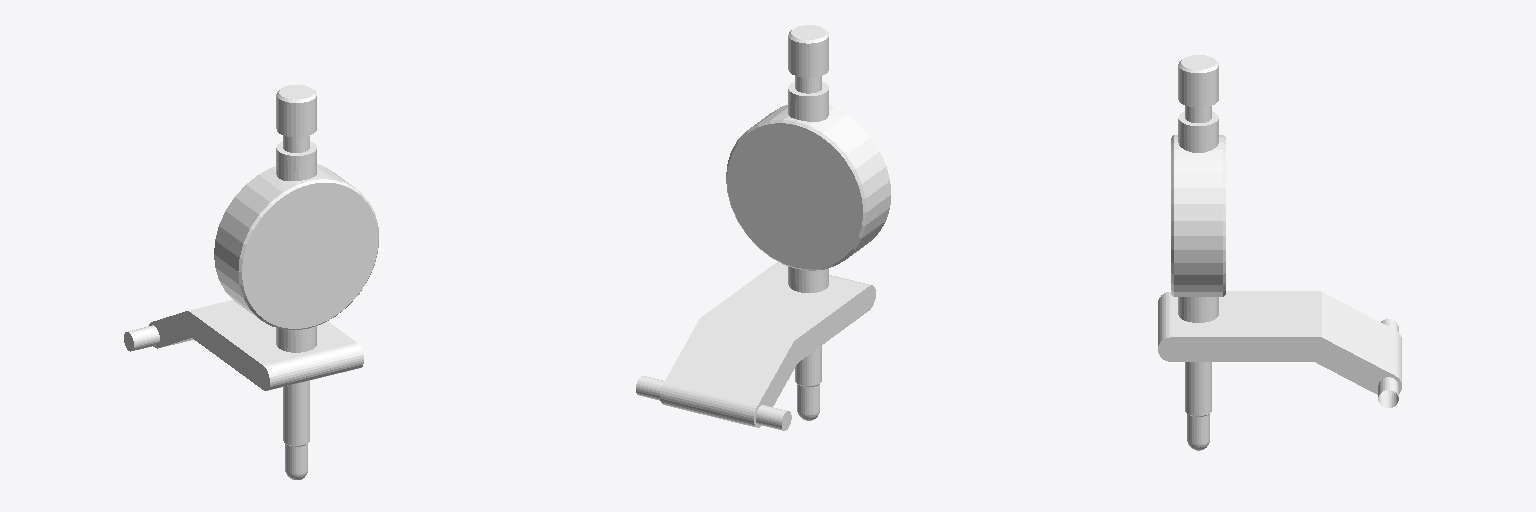
Rendered from tester.obj.
The picture shows the model from 3 angles: view 1: azimuth 30°, elevation 25°; view 2: azimuth 150°, elevation 25°; view 3: azimuth 270°, elevation 25°; orthographic projection.
Visible parts, largest first — view 1: ExtrToBrep_000000, 1_DC_Shell, NONE_DC_Shell; view 2: 1_DC_Shell, NONE_DC_Shell; view 3: NONE_DC_Shell, 1_DC_Shell.
Boxes of the visible parts, box(x1,y1,x2,y2) form: ExtrToBrep_000000: box(242, 183, 377, 328); 1_DC_Shell: box(214, 85, 378, 479); NONE_DC_Shell: box(124, 300, 363, 390); 1_DC_Shell: box(726, 25, 890, 420); NONE_DC_Shell: box(636, 262, 875, 430); NONE_DC_Shell: box(1158, 291, 1401, 407); 1_DC_Shell: box(1171, 55, 1225, 450).
Bounding box in the file's own units: 12.4 × 31.5 × 18.